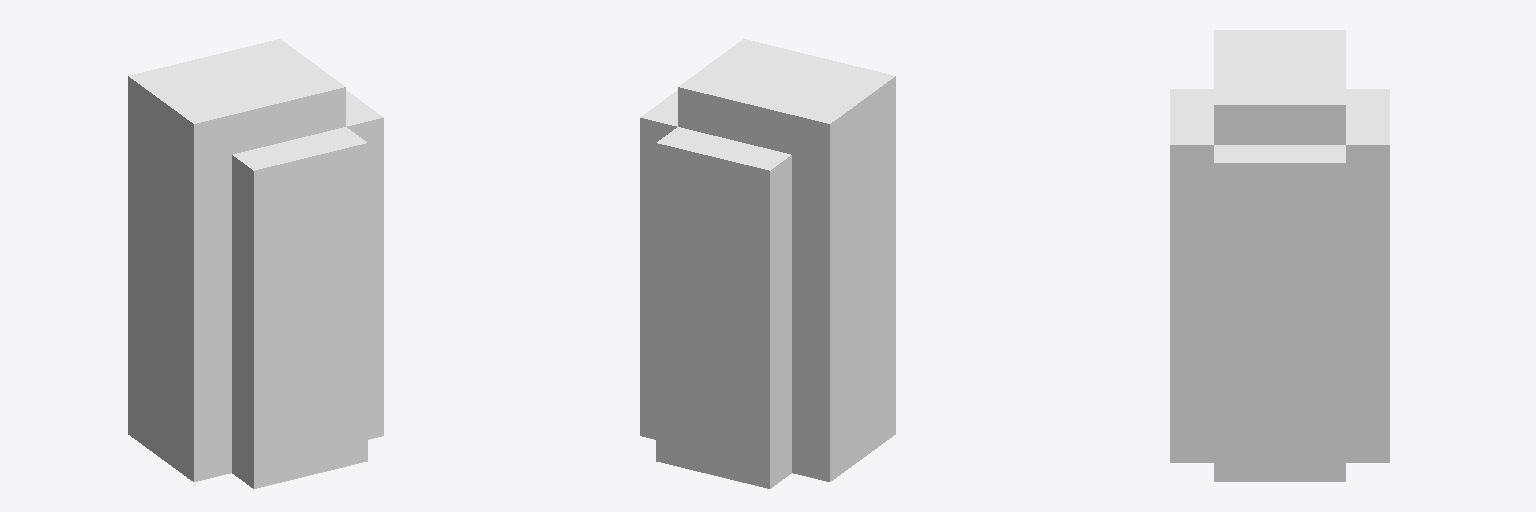
File: myCharacter-5.obj
3 renders of one model, left to right at view 1: azimuth 30°, elevation 25°; view 2: azimuth 150°, elevation 25°; view 3: azimuth 270°, elevation 25°, orthographic.
Parts seen in each view (by area): view 1: object 1; view 2: object 1; view 3: object 1.
Boxes of the visible parts, <box> form: object 1: <box>128,39,383,488</box>; object 1: <box>640,39,895,488</box>; object 1: <box>1170,30,1389,481</box>.
Size of the model in its own units: 0.5 by 0.9 by 0.5.